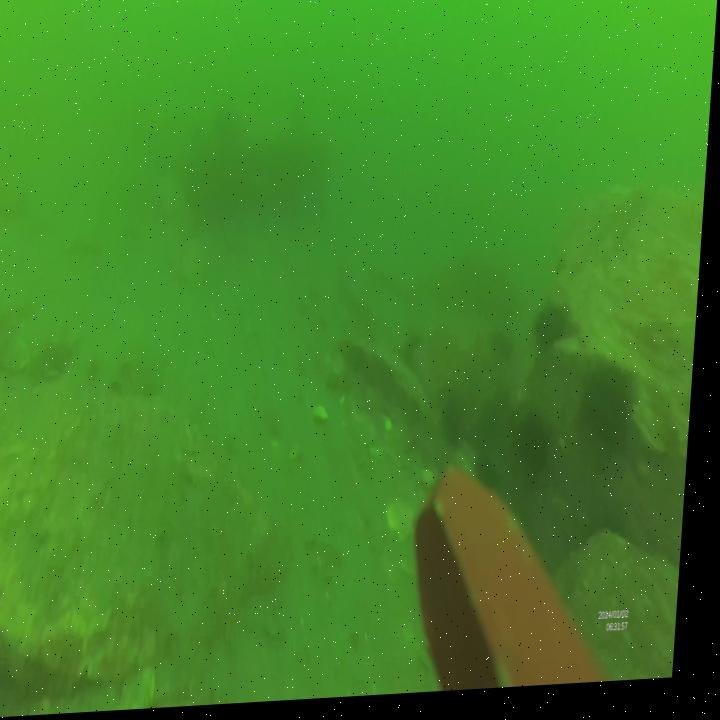echinus: (578, 379, 638, 459), (514, 414, 557, 489), (537, 309, 574, 358)
